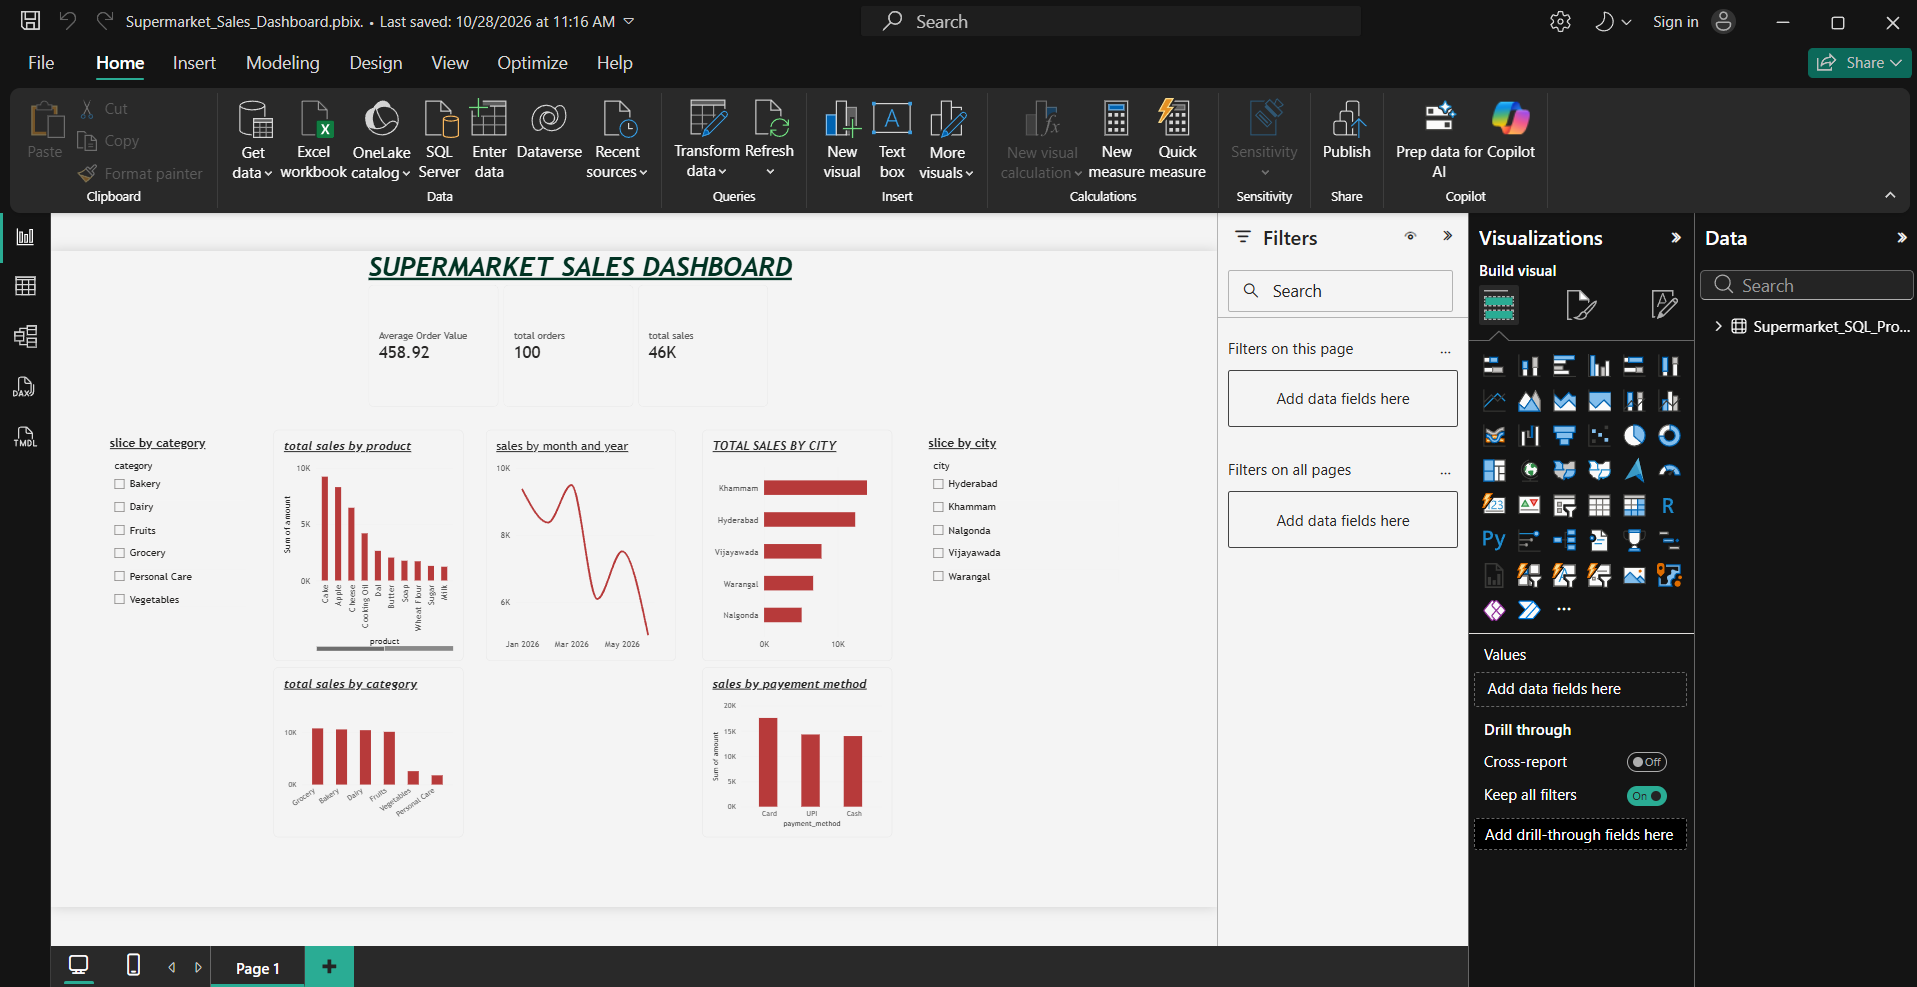

Layout of this report page (visuals, bound fields, positions):
{"tool":"powerbi","page":{"name":"Page 1","canvas":[1920,1080],"ordinal":0},"visuals":[{"type":"barChart","title":"TOTAL SALES BY CITY","fields":{"Category":["Supermarket_SQL_Project_100_Row.city"],"Y":["Sum(Supermarket_SQL_Project_100_Row.amount)"]},"box":[1072.4,294.3,313,381],"z":2000},{"type":"clusteredColumnChart","title":"total sales by category","fields":{"Category":["Supermarket_SQL_Project_100_Row.category"],"Y":["Sum(Supermarket_SQL_Project_100_Row.amount)"]},"box":[366.4,685.4,313,280],"z":3000},{"type":"columnChart","title":"total sales by product","fields":{"Category":["Supermarket_SQL_Project_100_Row.product"],"Y":["Sum(Supermarket_SQL_Project_100_Row.amount)"]},"box":[366.4,294.3,313,381],"z":4000},{"type":"lineChart","title":"sales by month and year","fields":{"Category":["Supermarket_SQL_Project_100_Row.order_date.Variation.Date Hierarchy.Year","Supermarket_SQL_Project_100_Row.order_date.Variation.Date Hierarchy.Month"],"Y":["Sum(Supermarket_SQL_Project_100_Row.amount)"]},"box":[716.3,294.3,313,381],"z":5000},{"type":"clusteredColumnChart","title":"sales by payement method","fields":{"Category":["Supermarket_SQL_Project_100_Row.payment_method"],"Y":["Sum(Supermarket_SQL_Project_100_Row.amount)"]},"box":[1072.4,685.4,313,280],"z":5001},{"type":"slicer","title":"slice by city","fields":{"Values":["Supermarket_SQL_Project_100_Row.city"]},"box":[1444.9,304.6,313,381],"z":5002},{"type":"textbox","title":"SUPERMARKET SALES DASHBOARD","box":[522.8,0,798.6,55.6],"z":5003},{"type":"slicer","title":"slice by category","fields":{"Values":["Supermarket_SQL_Project_100_Row.category"]},"box":[96.7,304.6,224.4,370.5],"z":5005},{"type":"cardVisual","fields":{"Data":["Supermarket_SQL_Project_100_Row.Average Order Value","Supermarket_SQL_Project_100_Row.total orders","Supermarket_SQL_Project_100_Row.total sales"]},"box":[522.8,55.6,658.7,201.7],"z":5006}]}

Visuals, with their boxes on the page's 1920x1080 design canvas (x1, y1, x2, y2). These are canvas units, not pixel positions in the 1917x987 screenshot, which may show the page scaled, cropped or inside an application window:
"TOTAL SALES BY CITY" barChart: region(1072, 294, 1385, 675)
"total sales by category" clusteredColumnChart: region(366, 685, 679, 965)
"total sales by product" columnChart: region(366, 294, 679, 675)
"sales by month and year" lineChart: region(716, 294, 1029, 675)
"sales by payement method" clusteredColumnChart: region(1072, 685, 1385, 965)
"slice by city" slicer: region(1445, 305, 1758, 686)
"SUPERMARKET SALES DASHBOARD" textbox: region(523, 0, 1321, 56)
"slice by category" slicer: region(97, 305, 321, 675)
cardVisual - Supermarket_SQL_Project_100_Row.Average Order Value x Supermarket_SQL_Project_100_Row.total orders: region(523, 56, 1182, 257)
